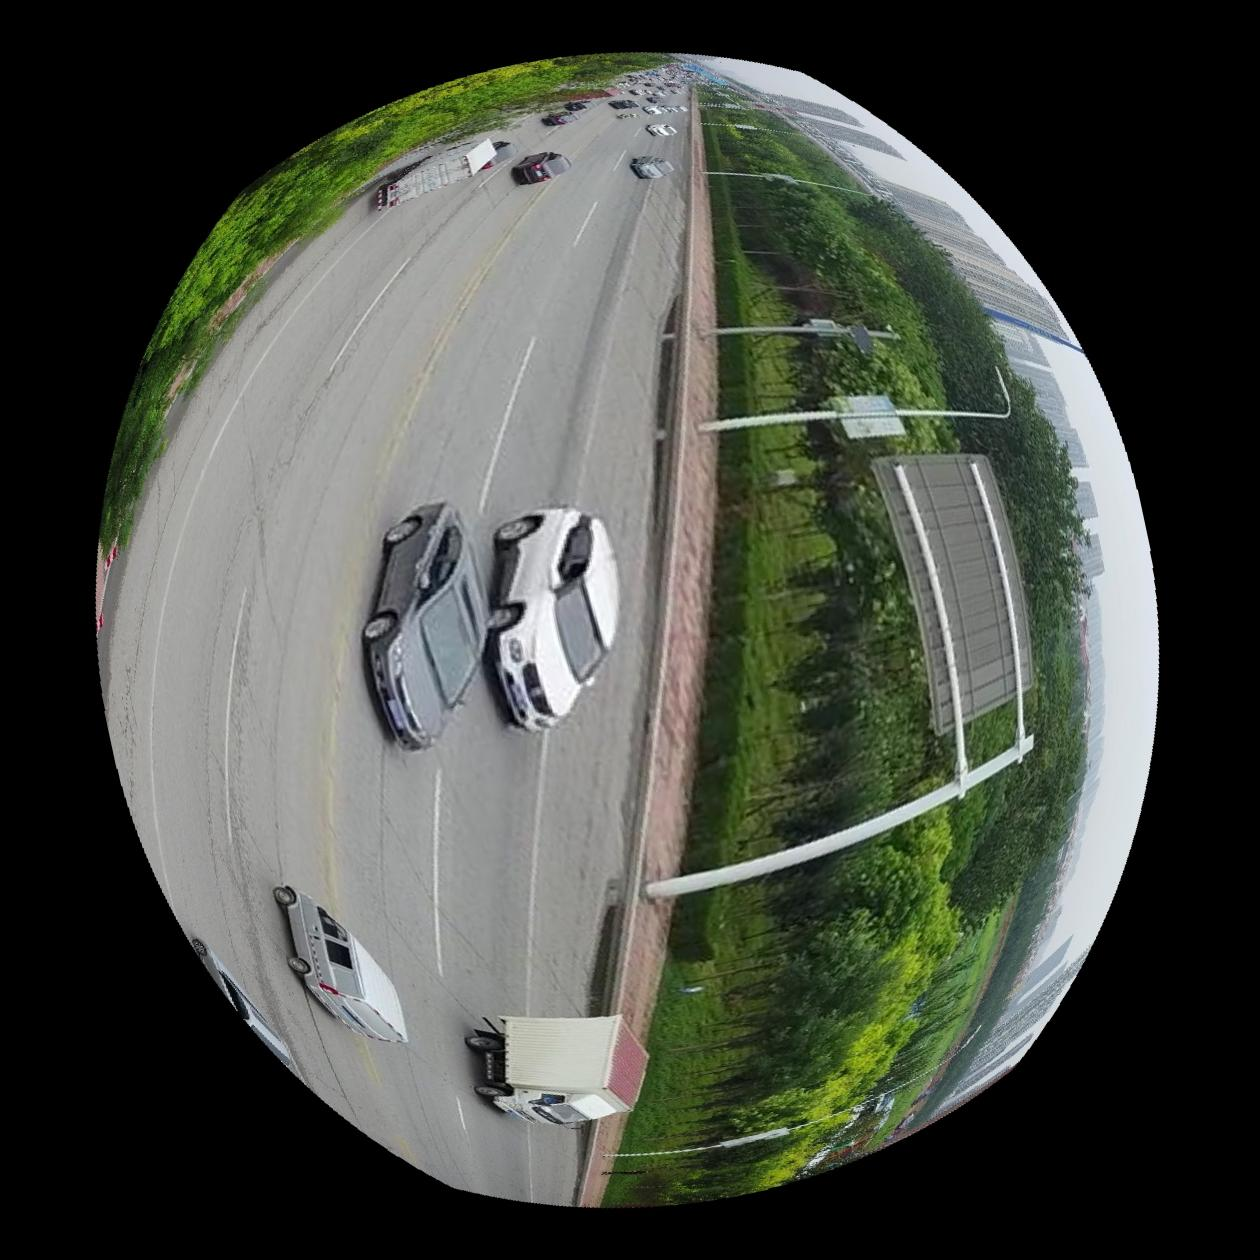cars: (361, 501, 485, 751), (487, 507, 618, 732), (271, 886, 404, 1044), (463, 1017, 647, 1126), (188, 939, 294, 1075), (375, 135, 494, 208), (511, 149, 570, 183), (630, 153, 673, 178)
trees: (95, 51, 667, 595), (610, 722, 1082, 1203), (687, 419, 1060, 871), (699, 67, 1000, 408)
